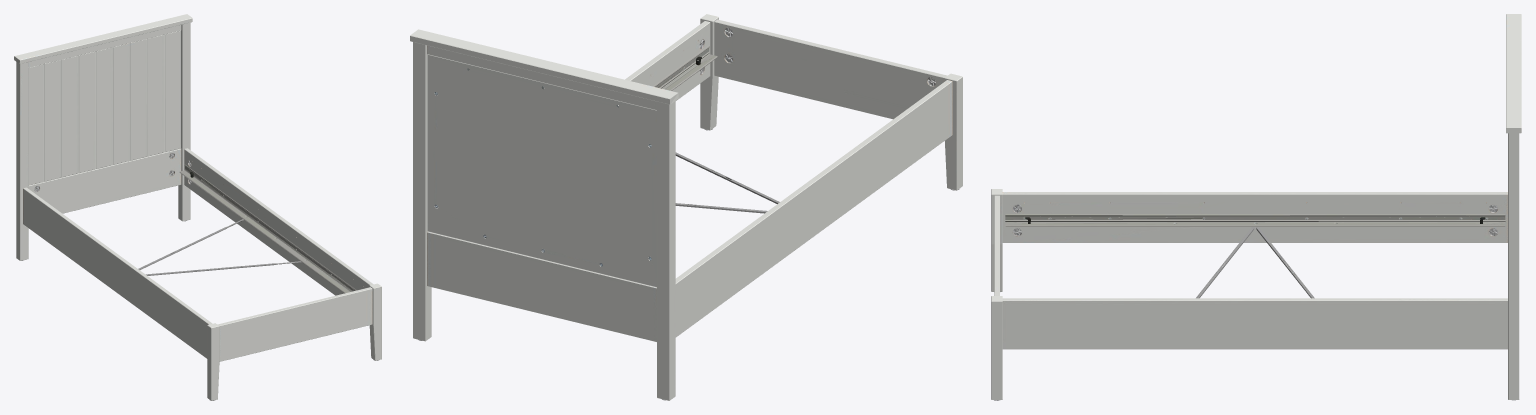
The picture shows the model from 3 angles, left to right: view 1: azimuth 30°, elevation 25°; view 2: azimuth 150°, elevation 25°; view 3: azimuth 270°, elevation 25°; orthographic projection. The views are drawn at different scales.
Visible parts, largest first — view 1: d5d7e7fd-c117-403a-b91c-c917860d5aa5; view 2: d5d7e7fd-c117-403a-b91c-c917860d5aa5; view 3: d5d7e7fd-c117-403a-b91c-c917860d5aa5.
Part boxes in pixels (x1=…): d5d7e7fd-c117-403a-b91c-c917860d5aa5: x1=14, y1=14, x2=381, y2=400; d5d7e7fd-c117-403a-b91c-c917860d5aa5: x1=410, y1=14, x2=962, y2=400; d5d7e7fd-c117-403a-b91c-c917860d5aa5: x1=991, y1=14, x2=1521, y2=400.
Size of the model in its own units: 1.01 by 1.13 by 1.98.
Materials: 1 (1 with a texture image).
